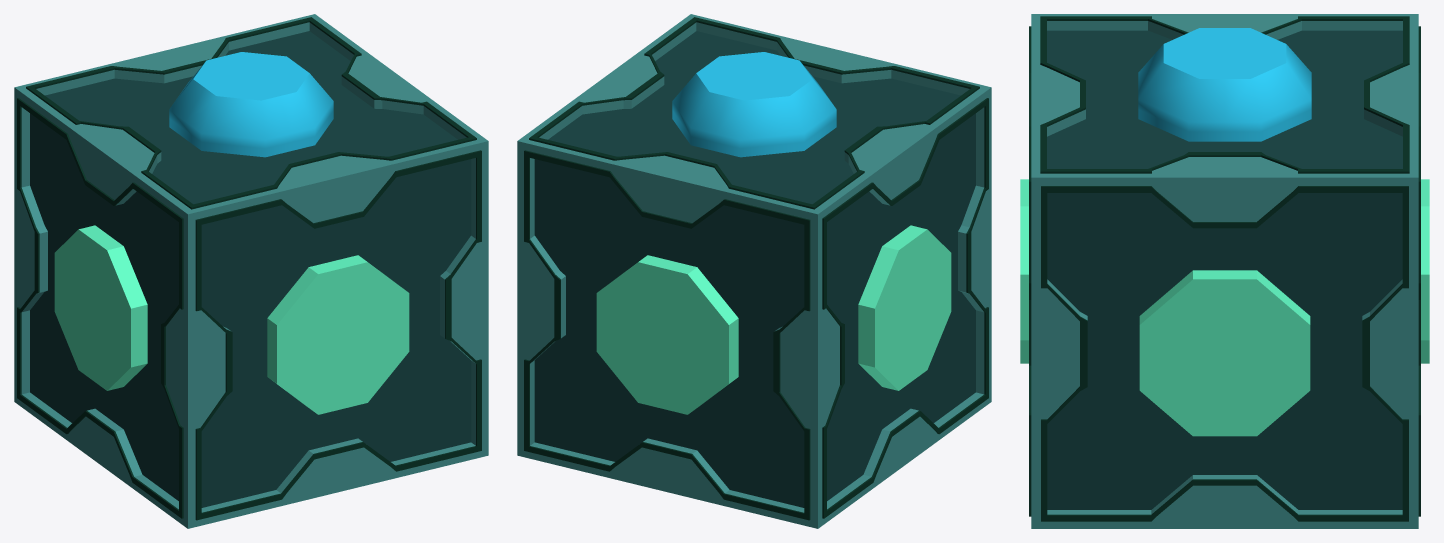
File: meeseeks.fbx
3 views of the same model, side by side, from view 1: azimuth 30°, elevation 25°; view 2: azimuth 150°, elevation 25°; view 3: azimuth 270°, elevation 25° (orthographic). The views are drawn at different scales.
Visible parts, largest first — view 1: MeeseeksBox; view 2: MeeseeksBox; view 3: MeeseeksBox.
Part boxes in pixels (left/top/right/bottom): MeeseeksBox: left=14, top=14, right=488, bottom=528; MeeseeksBox: left=517, top=14, right=991, bottom=528; MeeseeksBox: left=1020, top=14, right=1429, bottom=528.
Bounding box in the file's own units: 190 × 207 × 190.
